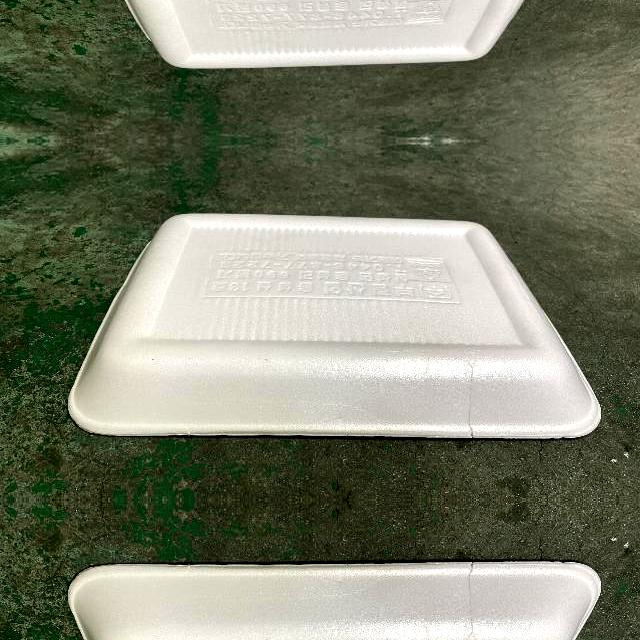Styrofoam: (65, 210, 601, 440), (67, 213, 602, 438), (65, 558, 601, 640), (67, 560, 602, 640), (65, 0, 601, 69), (125, 0, 524, 67)
